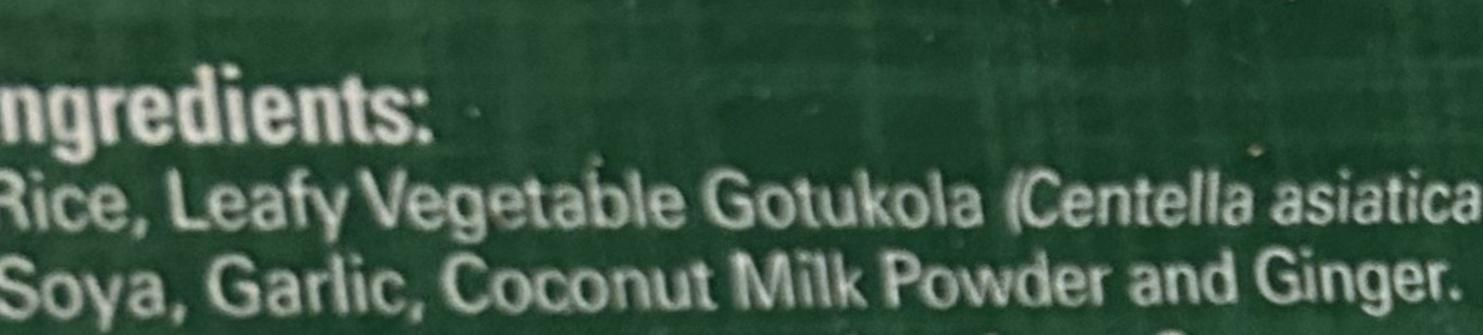ingredients: (0, 53, 1483, 335)
